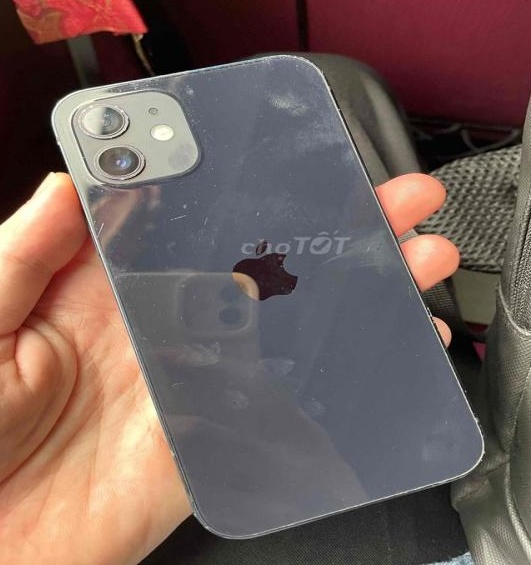scratch: (63, 73, 225, 394), (372, 249, 494, 499)
